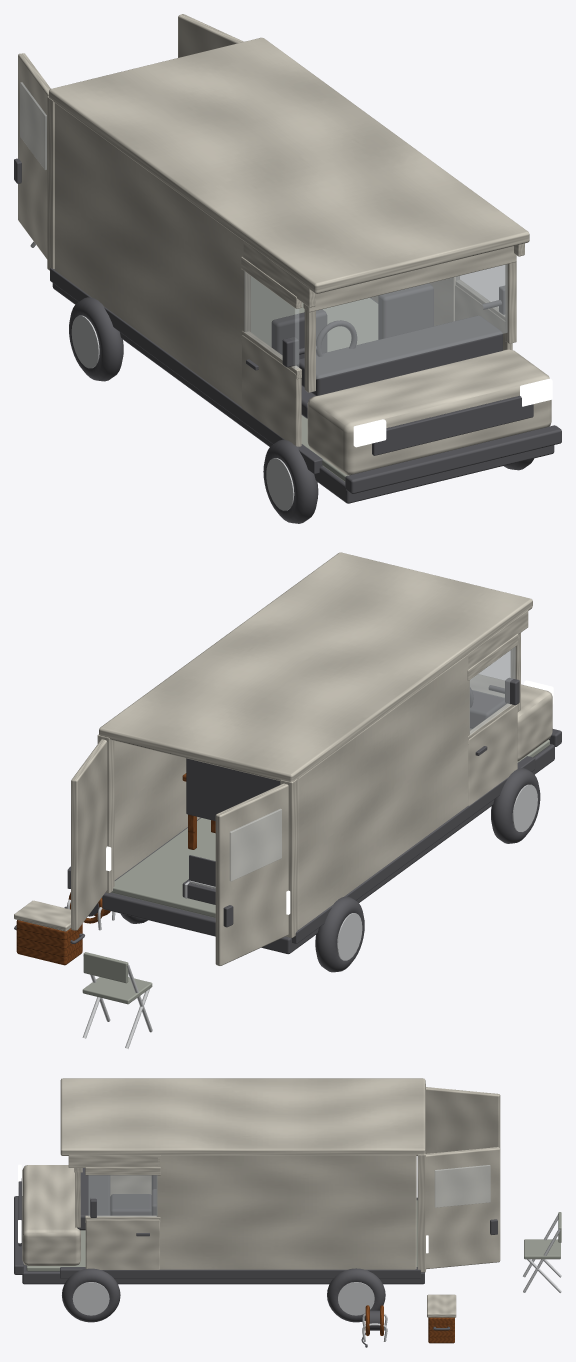
File: paranormal-investigation-house-van-mobile-base-61ee53d9__26904.glb
The picture shows the model from 3 angles, top to bottom: view 1: azimuth 30°, elevation 25°; view 2: azimuth 150°, elevation 25°; view 3: azimuth 270°, elevation 25°; orthographic projection. The views are drawn at different scales.
Parts seen in each view (by area): view 1: 000-investigation-van-rear-open/2, 000-investigation-van-rear-open/0, 000-investigation-van-rear-open/4, 000-investigation-van-rear-open/3, 000-investigation-van-rear-open/rear-left-door (×2), 000-investigation-van-rear-open/cab-left-door/trimWhite, 000-investigation-van-rear-open/1, 000-investigation-van-rear-open/cab-left-door/glass, 000-investigation-van-rear-open/wheel-left-front/rubber, 000-investigation-van-rear-open/wheel-left-rear/rubber, 000-investigation-van-rear-open/rear-right-door, 000-investigation-van-rear-open/5 (+4 smaller); view 2: 000-investigation-van-rear-open/2, 000-investigation-van-rear-open/rear-left-door (×2), 000-investigation-van-rear-open/rear-right-door, 000-investigation-van-rear-open/1, 000-investigation-van-rear-open/0, 000-investigation-van-rear-open/cab-left-door/trimWhite, 000-investigation-van-rear-open/3, 002-monitor-wall/0, 000-investigation-van-rear-open/cab-left-door/glass, 005-cooler/0, 004-folding-chair/1, 000-investigation-van-rear-open/wheel-left-rear/rubber (+7 smaller); view 3: 000-investigation-van-rear-open/2, 000-investigation-van-rear-open/rear-right-door (×2), 000-investigation-van-rear-open/3, 000-investigation-van-rear-open/cab-right-door/trimWhite, 000-investigation-van-rear-open/rear-left-door, 000-investigation-van-rear-open/0, 000-investigation-van-rear-open/cab-right-door/glass, 000-investigation-van-rear-open/wheel-right-front/rubber, 000-investigation-van-rear-open/wheel-right-rear/rubber, 000-investigation-van-rear-open/wheel-right-front/steel, 000-investigation-van-rear-open/wheel-right-rear/steel, 004-folding-chair/1 (+5 smaller).
Boxes of the visible parts, x1=… form: 000-investigation-van-rear-open/2: x1=47, y1=37, x2=551, y2=475; 000-investigation-van-rear-open/0: x1=52, y1=283, x2=554, y2=503; 000-investigation-van-rear-open/4: x1=316, y1=264, x2=507, y2=379; 000-investigation-van-rear-open/3: x1=50, y1=268, x2=561, y2=493; 000-investigation-van-rear-open/rear-left-door (×2): x1=18, y1=53, x2=50, y2=259; 000-investigation-van-rear-open/cab-left-door/trimWhite: x1=241, y1=257, x2=302, y2=446; 000-investigation-van-rear-open/1: x1=251, y1=276, x2=378, y2=481; 000-investigation-van-rear-open/cab-left-door/glass: x1=244, y1=271, x2=298, y2=368; 000-investigation-van-rear-open/wheel-left-front/rubber: x1=263, y1=439, x2=318, y2=523; 000-investigation-van-rear-open/wheel-left-rear/rubber: x1=69, y1=297, x2=123, y2=381; 000-investigation-van-rear-open/rear-right-door: x1=178, y1=14, x2=243, y2=57; 000-investigation-van-rear-open/5: x1=353, y1=378, x2=552, y2=447; 000-investigation-van-rear-open/2: x1=97, y1=552, x2=552, y2=937; 000-investigation-van-rear-open/rear-left-door (×2): x1=215, y1=783, x2=288, y2=965; 000-investigation-van-rear-open/rear-right-door: x1=71, y1=739, x2=107, y2=930; 000-investigation-van-rear-open/1: x1=111, y1=739, x2=549, y2=917; 000-investigation-van-rear-open/0: x1=102, y1=685, x2=554, y2=954; 000-investigation-van-rear-open/cab-left-door/trimWhite: x1=467, y1=634, x2=518, y2=805; 000-investigation-van-rear-open/3: x1=114, y1=678, x2=561, y2=943; 002-monitor-wall/0: x1=186, y1=758, x2=280, y2=820; 000-investigation-van-rear-open/cab-left-door/glass: x1=470, y1=647, x2=515, y2=734; 005-cooler/0: x1=16, y1=920, x2=82, y2=965; 004-folding-chair/1: x1=82, y1=952, x2=152, y2=1004; 000-investigation-van-rear-open/wheel-left-rear/rubber: x1=315, y1=896, x2=364, y2=972; 000-investigation-van-rear-open/2: x1=22, y1=1078, x2=425, y2=1272; 000-investigation-van-rear-open/rear-right-door (×2): x1=426, y1=1147, x2=500, y2=1269; 000-investigation-van-rear-open/3: x1=14, y1=1175, x2=420, y2=1278; 000-investigation-van-rear-open/cab-right-door/trimWhite: x1=85, y1=1167, x2=160, y2=1269; 000-investigation-van-rear-open/rear-left-door: x1=426, y1=1087, x2=500, y2=1153; 000-investigation-van-rear-open/0: x1=18, y1=1168, x2=424, y2=1284; 000-investigation-van-rear-open/cab-right-door/glass: x1=88, y1=1175, x2=157, y2=1216; 000-investigation-van-rear-open/wheel-right-front/rubber: x1=62, y1=1268, x2=120, y2=1322; 000-investigation-van-rear-open/wheel-right-rear/rubber: x1=327, y1=1268, x2=385, y2=1322; 000-investigation-van-rear-open/wheel-right-front/steel: x1=72, y1=1282, x2=109, y2=1315; 000-investigation-van-rear-open/wheel-right-rear/steel: x1=338, y1=1282, x2=374, y2=1315; 004-folding-chair/1: x1=524, y1=1212, x2=561, y2=1259.
Size of the model in its own units: 2.89 by 2.26 by 6.53.
Materials: 7 (2 with a texture image).
